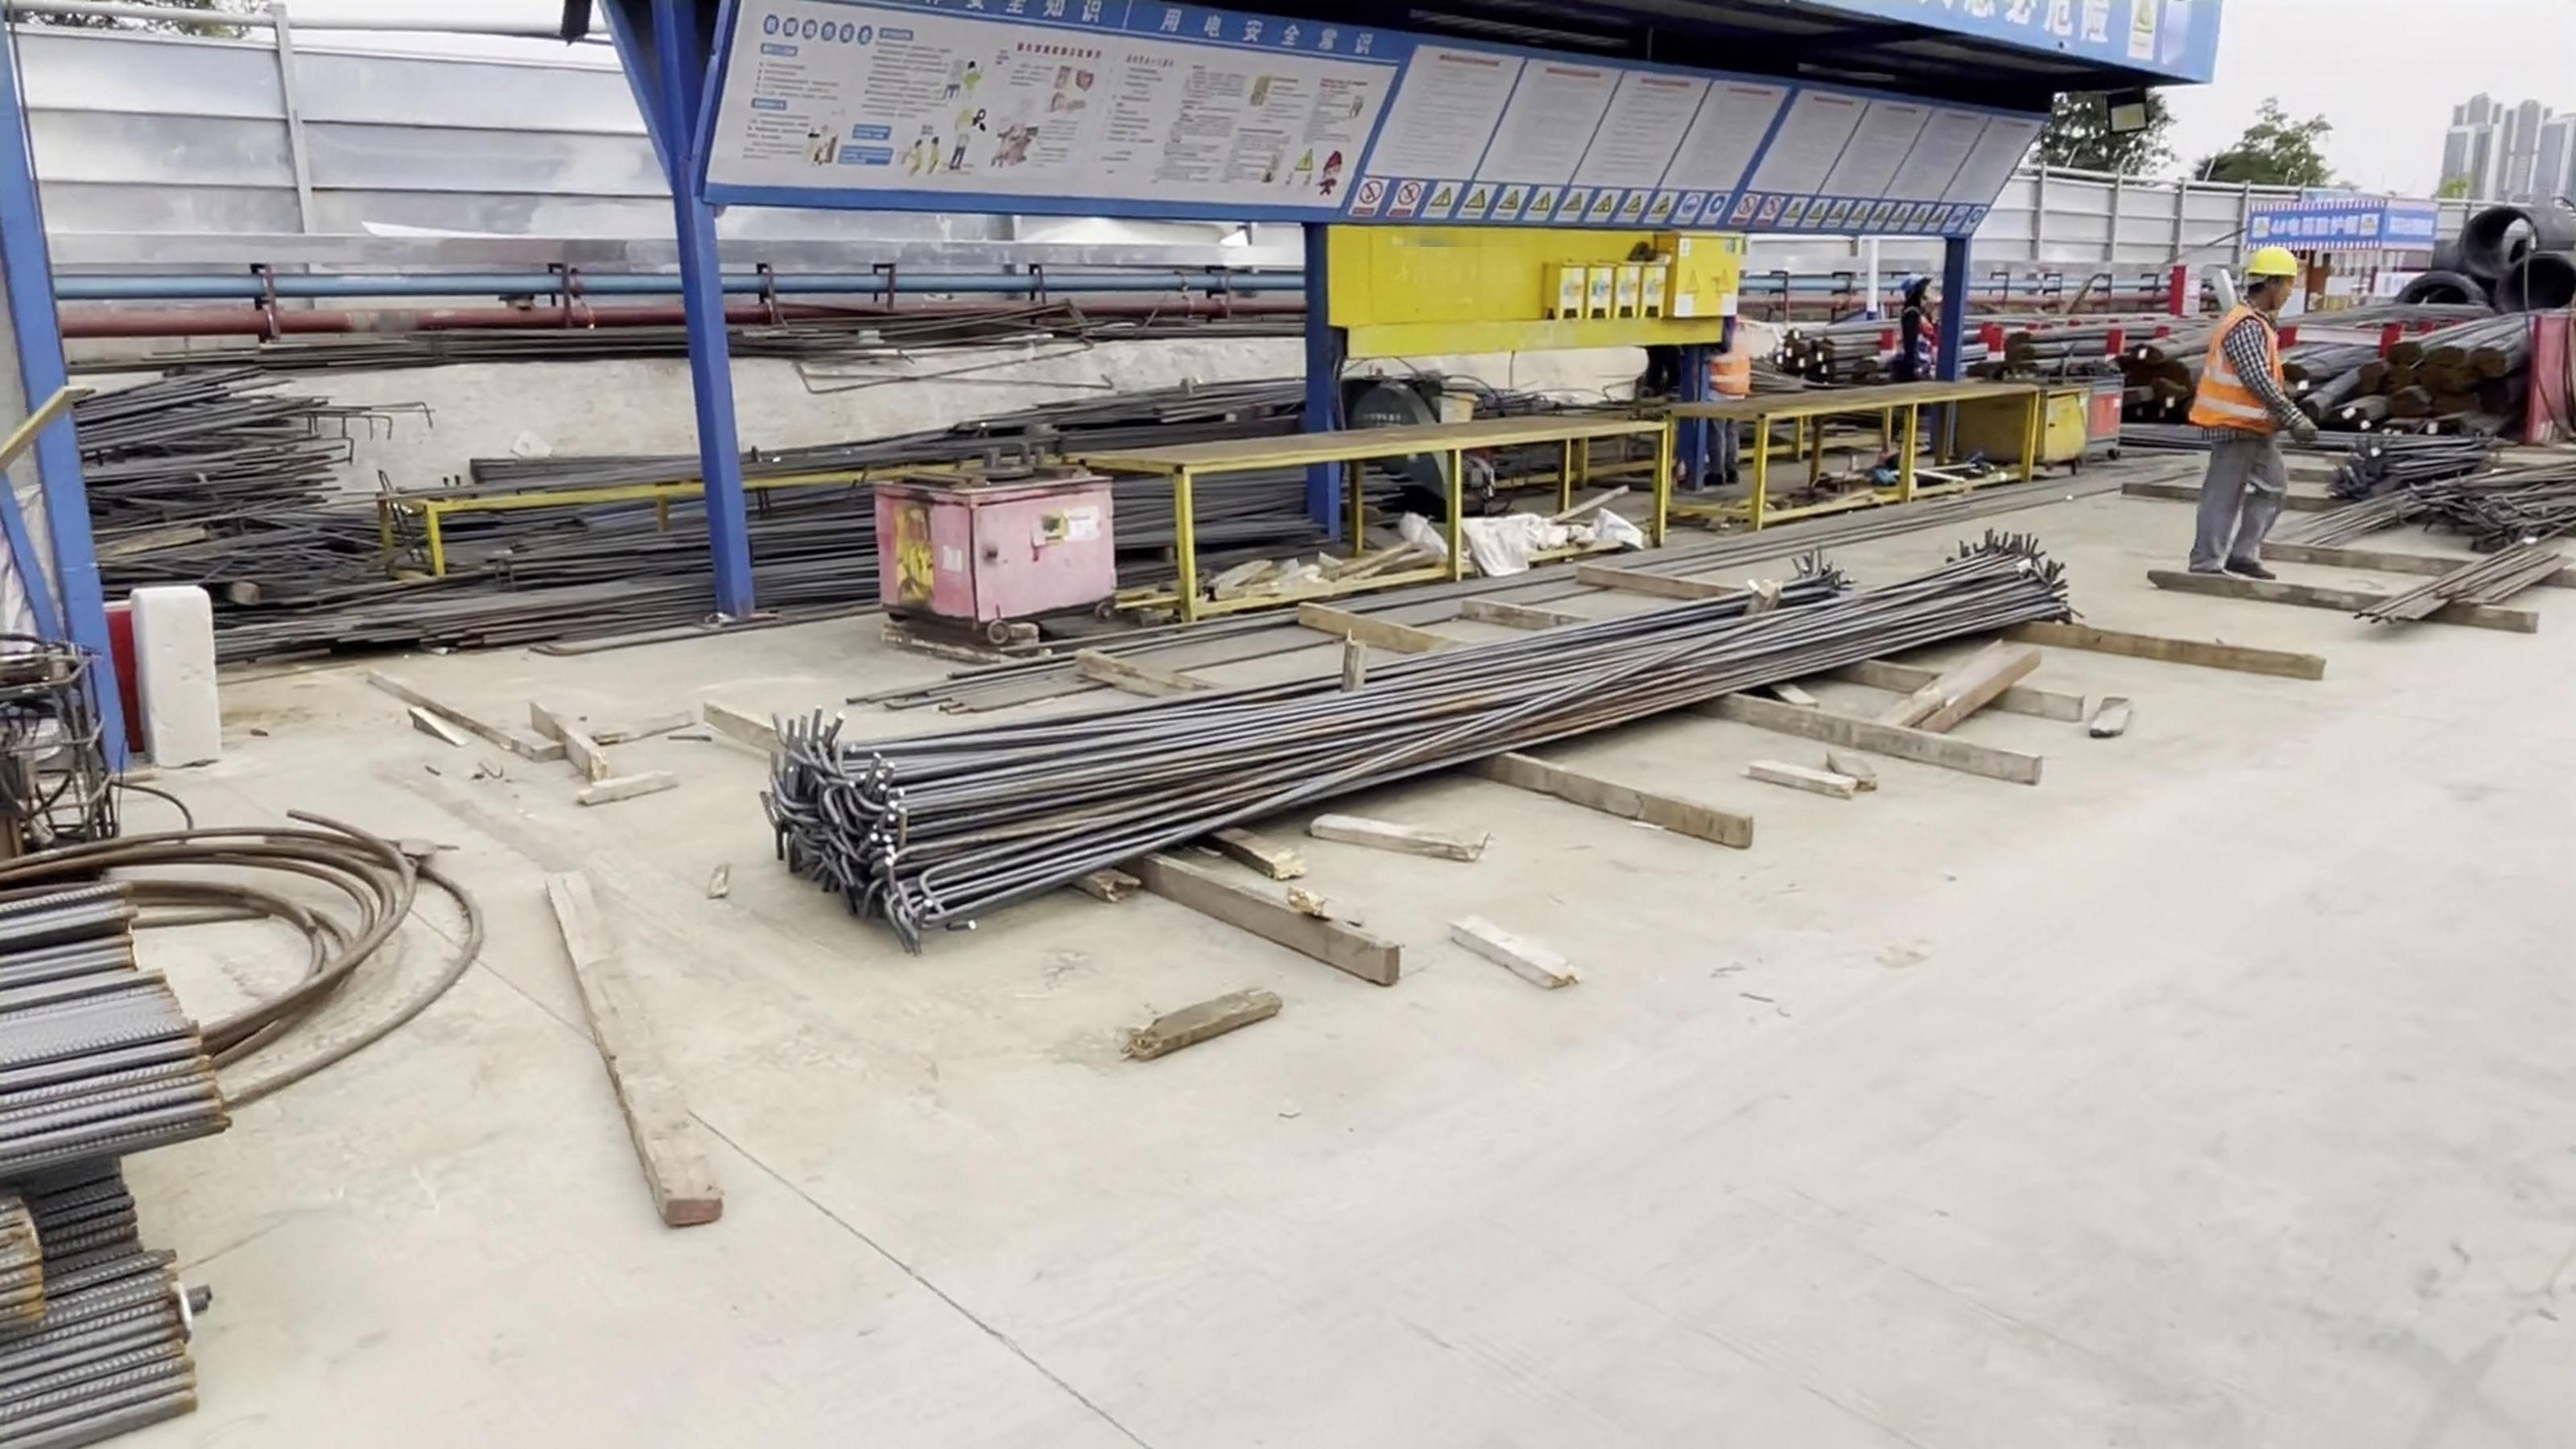ebox: (1543, 221, 1758, 321)
fence: (57, 23, 745, 266)
helmet: (2245, 252, 2298, 284), (1897, 275, 1930, 287)
person: (2190, 234, 2310, 583), (1894, 270, 1953, 452), (1713, 315, 1756, 474)
rebar: (769, 533, 2087, 949), (477, 382, 1345, 568), (3, 876, 198, 1449), (65, 365, 402, 570), (2332, 407, 2572, 545)
slogan: (1901, 1, 2231, 50), (2252, 204, 2383, 250)
vest: (2206, 325, 2280, 431), (1711, 321, 1753, 407), (1901, 313, 1938, 385)
